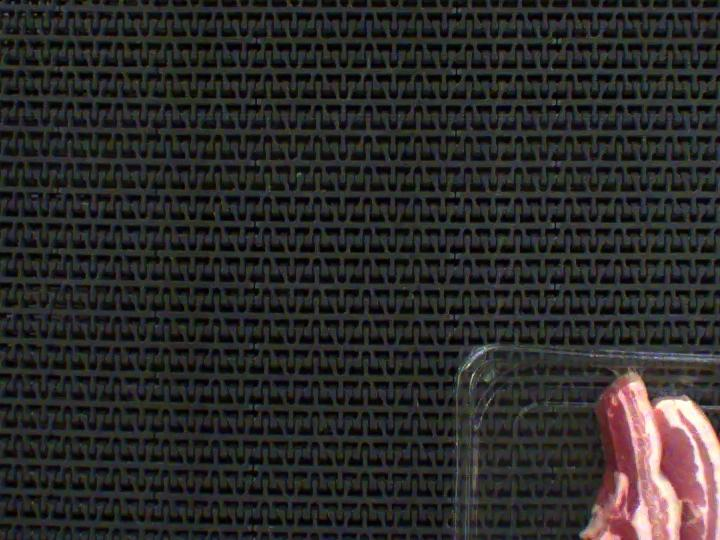packaging-error: (604, 359, 651, 384)
